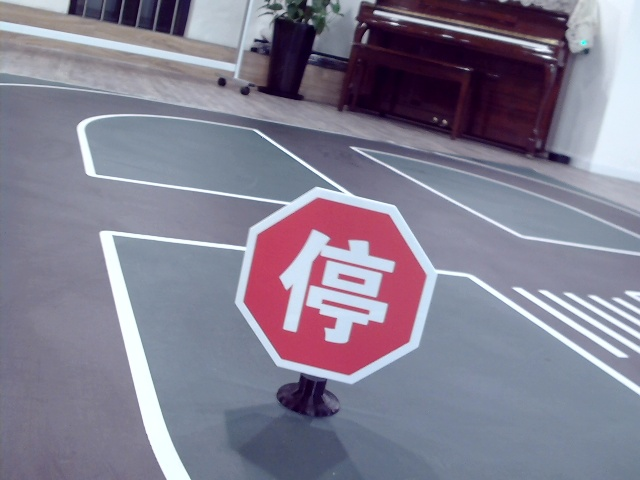stop: (281, 224, 389, 339)
